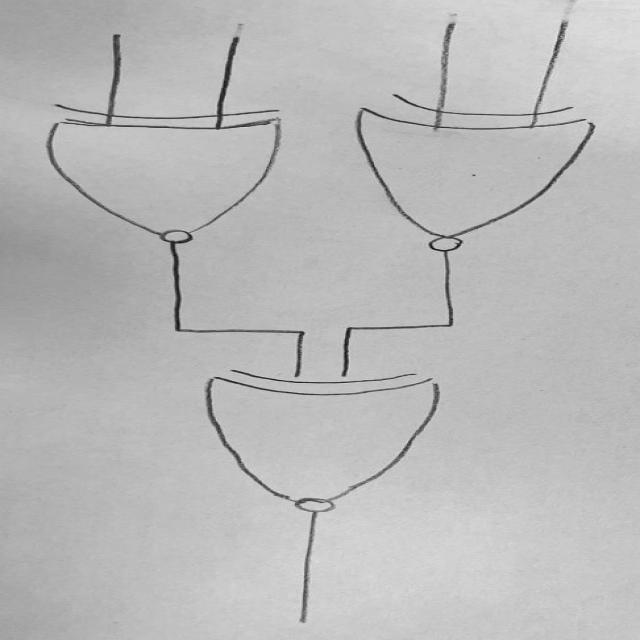XNOR: (30, 95, 321, 264), (181, 353, 479, 516), (349, 83, 620, 252)
